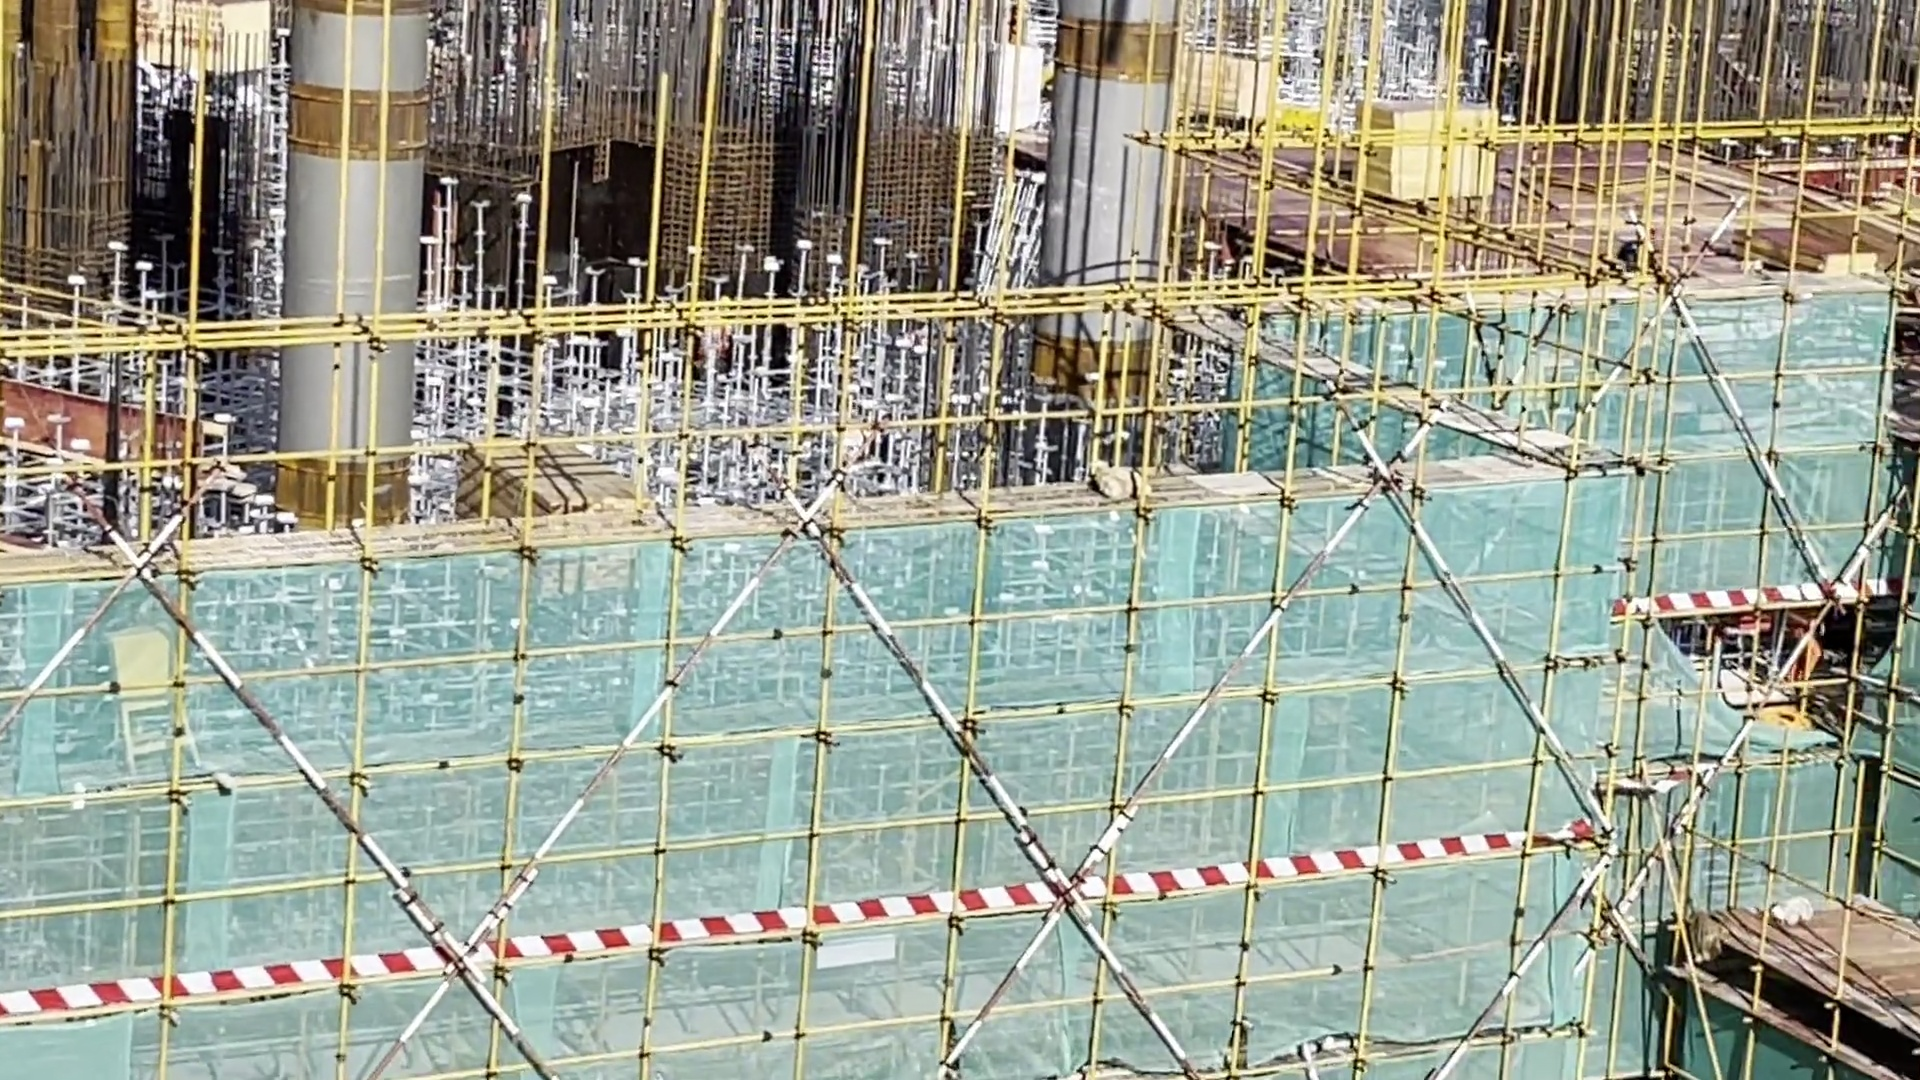ebox: (100, 624, 214, 770)
